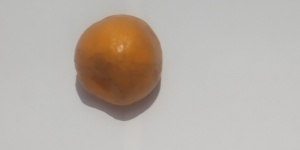BAD: (73, 12, 165, 105)
